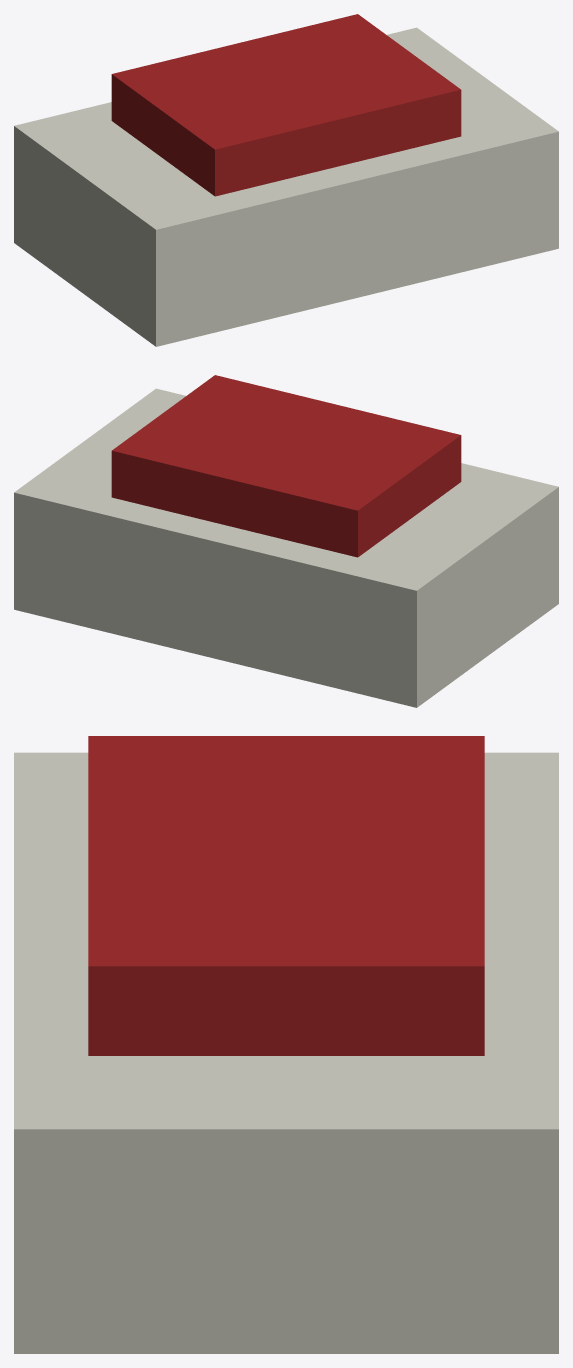
The model's file is L129_EZ_VGA.fbx.
3 views of the same model, one above another, from view 1: azimuth 30°, elevation 25°; view 2: azimuth 150°, elevation 25°; view 3: azimuth 270°, elevation 25° (orthographic). The views are drawn at different scales.
Parts seen in each view (by area): view 1: EZ_VGA__White, EZ_VGA__Red; view 2: EZ_VGA__White, EZ_VGA__Red; view 3: EZ_VGA__White, EZ_VGA__Red.
Part boxes in pixels (x1,y1,x2,y2): EZ_VGA__White: (14, 27, 558, 346); EZ_VGA__Red: (111, 14, 461, 196); EZ_VGA__White: (14, 388, 558, 707); EZ_VGA__Red: (111, 375, 461, 557); EZ_VGA__White: (14, 752, 558, 1353); EZ_VGA__Red: (88, 736, 484, 1055).
Size of the model in its own units: 1.8 by 0.7 by 1.1.
